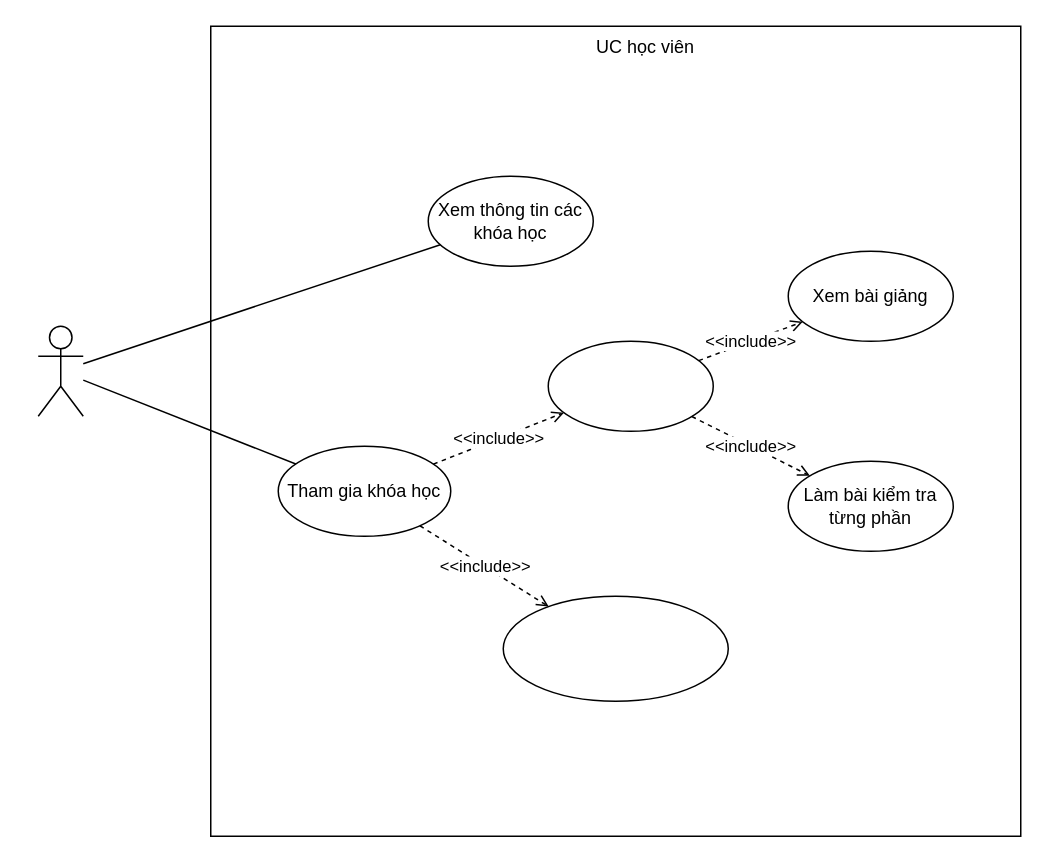
The diagram is 1047 pixels wide and 863 high, and some of its shapes have lost their labels. The shapes that lost their labels are listed below. From the top down, each one's box as (x1, y1, x2, y2) in pixels, then its label:
(37, 325, 83, 416): Học viên
(547, 340, 713, 431): Học các phần
(502, 595, 728, 701): Thi/Làm bài đánh giá cuối cùng
